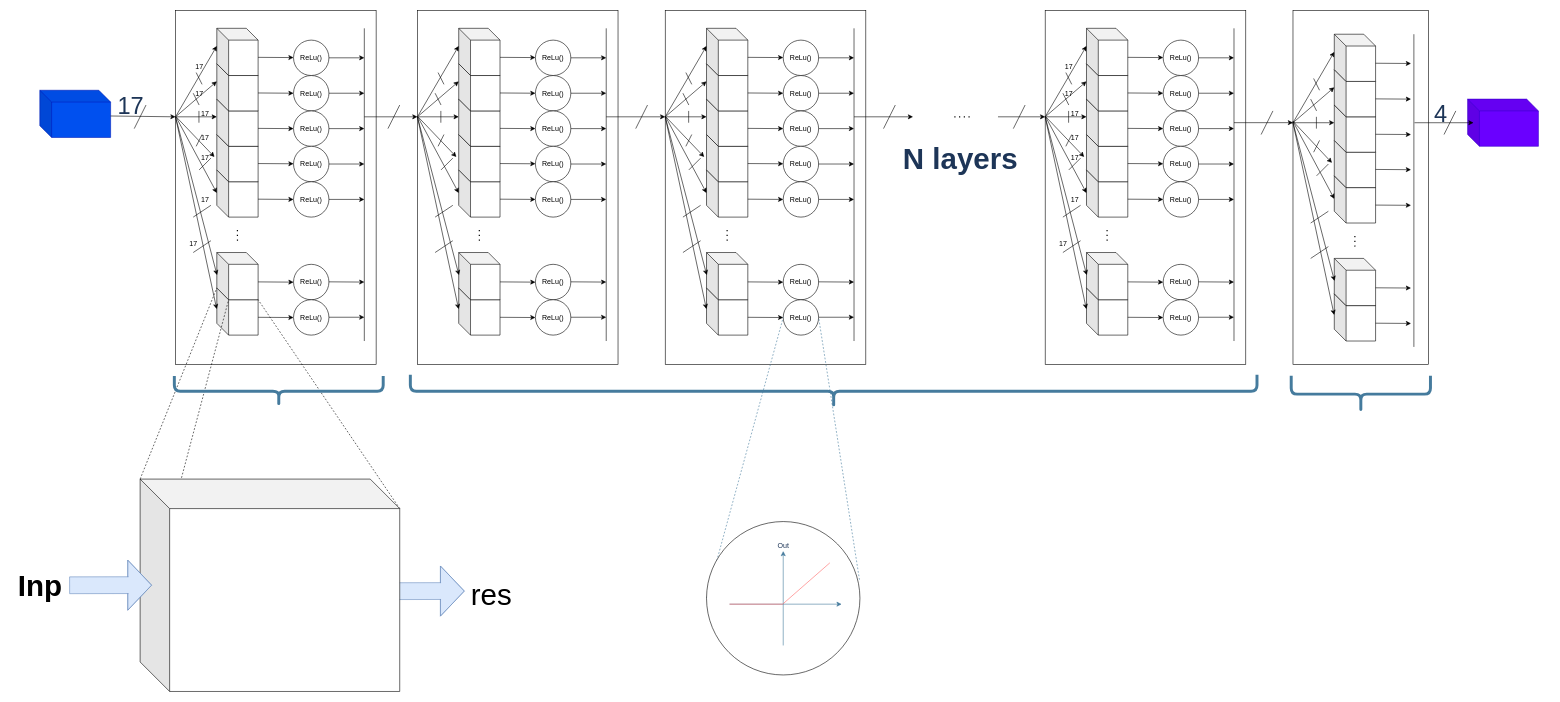
This 1560x702 diagram has some shape labels left out. Each missing label, with the box of its shape:
Hidden Layers: (409, 373, 1258, 409)
In: (706, 521, 860, 675)
Input layers: (173, 374, 384, 407)
Output Layer: (1289, 374, 1432, 414)
res = W * inp + b: (140, 478, 400, 691)
X(tk): (39, 90, 111, 137)
Y*(tk): (1467, 99, 1538, 146)
